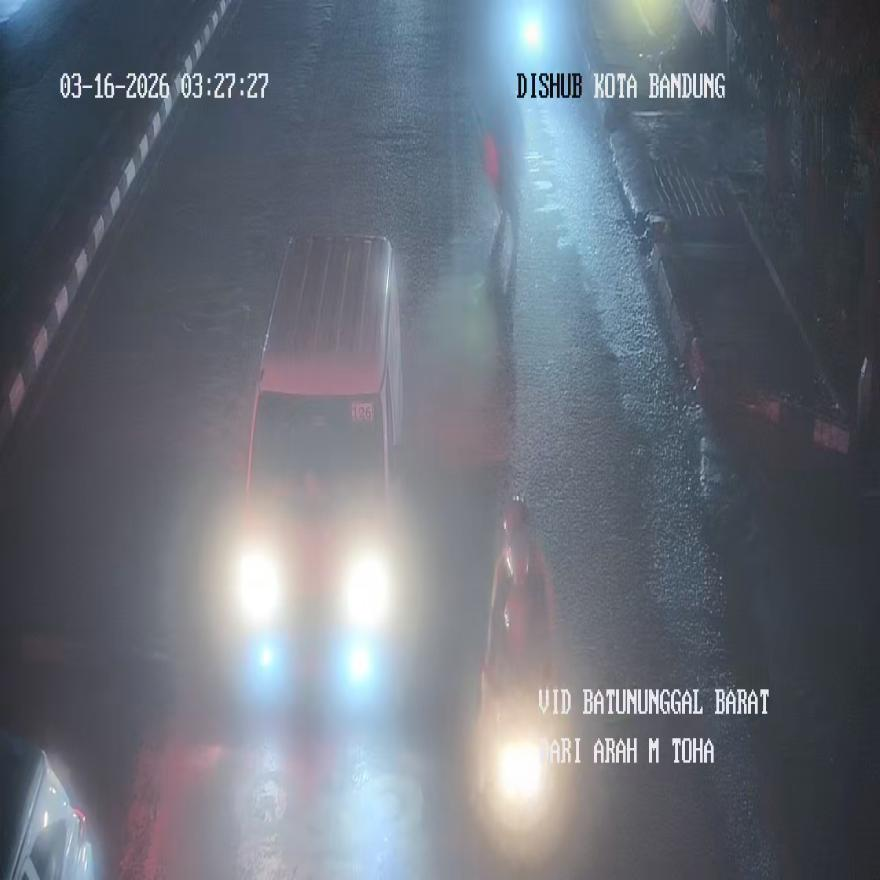Motor: (220, 235, 404, 699)
Truk: (477, 683, 550, 812)
